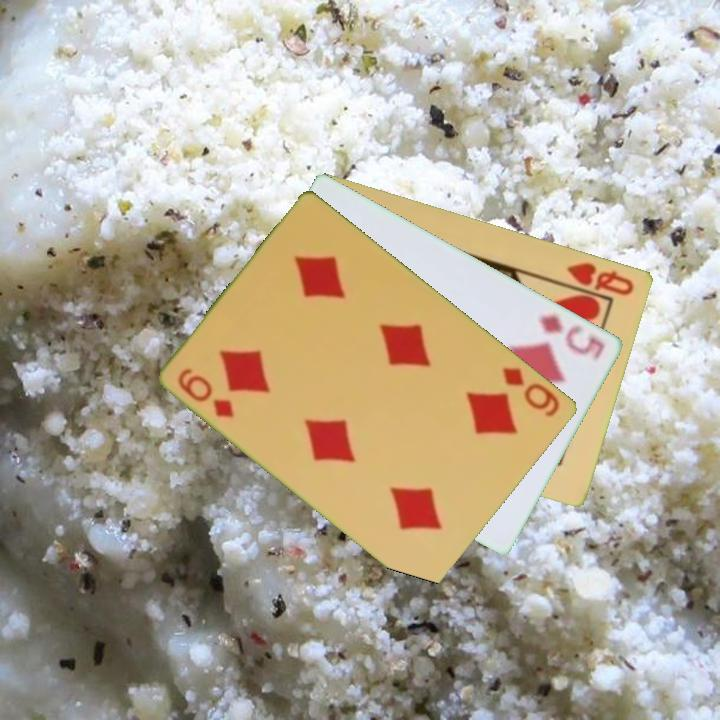5d: (536, 310, 608, 365)
6d: (499, 363, 563, 420), (175, 364, 238, 421)
Qh: (564, 258, 637, 299)
